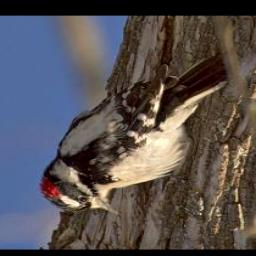Woodpecker: (38, 53, 228, 216)
